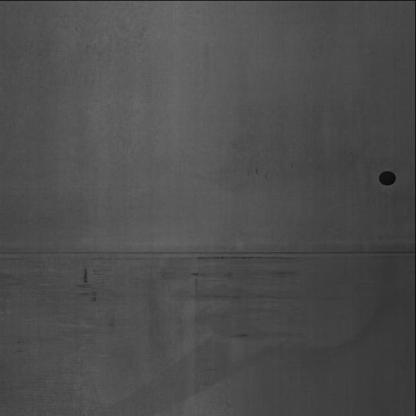punching_hole: (378, 165, 399, 191)
welding_line: (2, 236, 413, 270)
